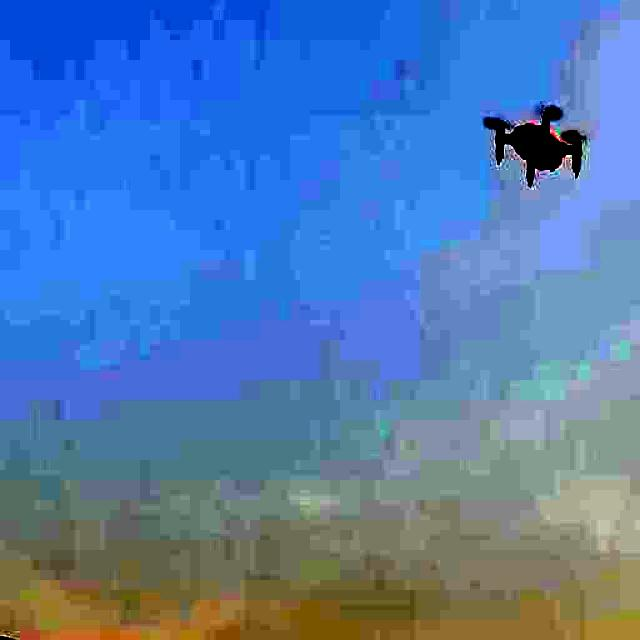bird: (488, 99, 588, 191)
